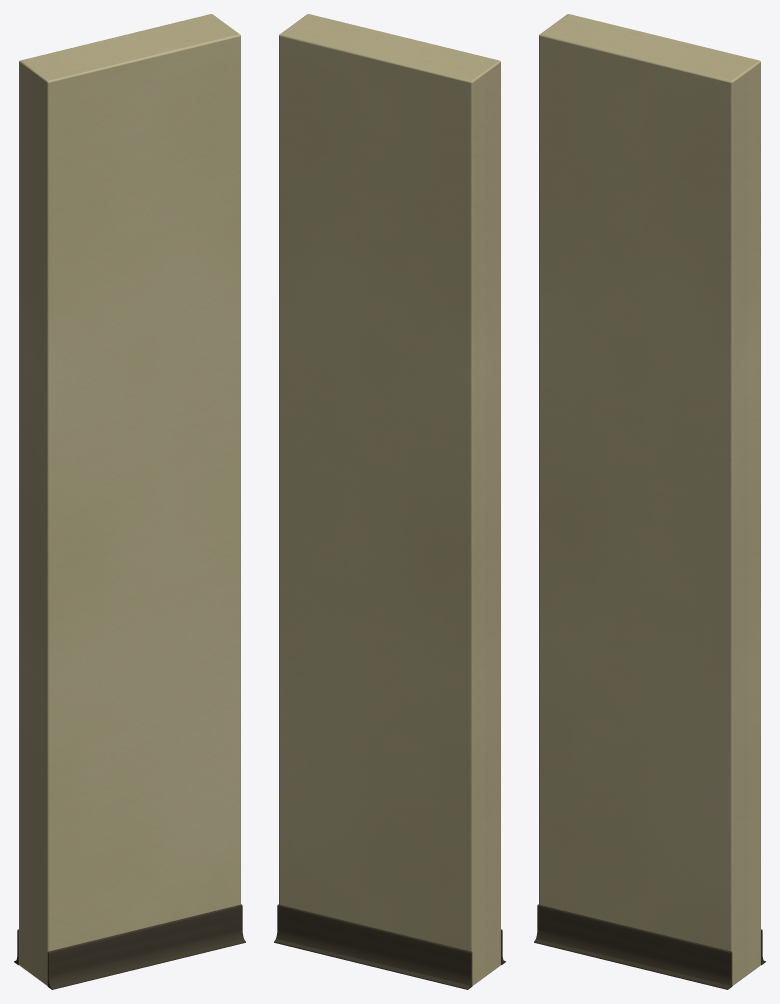
Rendered from wall_061.gltf.
The picture shows the model from 3 angles, left to right: view 1: azimuth 30°, elevation 25°; view 2: azimuth 150°, elevation 25°; view 3: azimuth 330°, elevation 25°; orthographic projection.
Visible parts, largest first — view 1: wall_061; view 2: wall_061; view 3: wall_061.
Boxes of the visible parts, box(x1,y1,x2,y2) form: wall_061: box(14, 14, 245, 989); wall_061: box(274, 14, 505, 989); wall_061: box(534, 14, 765, 989).
Size of the model in its own units: 0.61 by 2.72 by 0.208.
2 materials, 2 textured.
